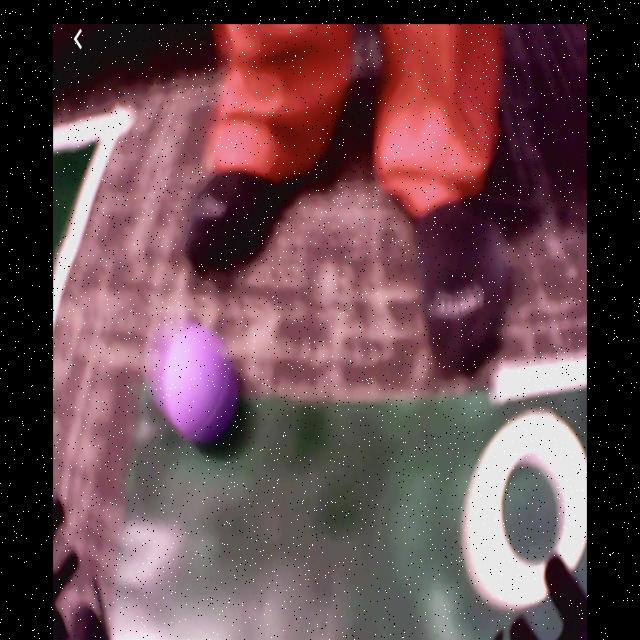ball: (166, 327, 240, 446)
